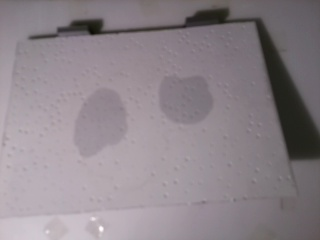Water_detected: (78, 102, 122, 143), (172, 74, 213, 115)
